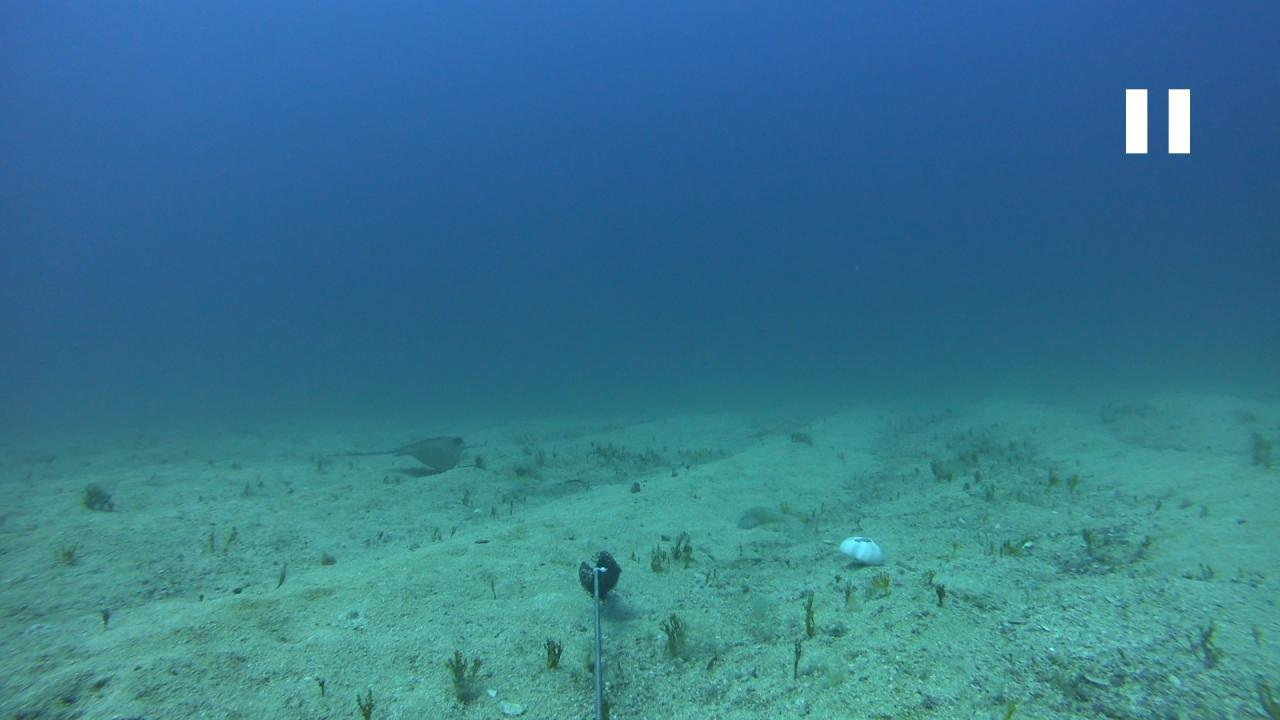dasyatis: (334, 434, 480, 472)
